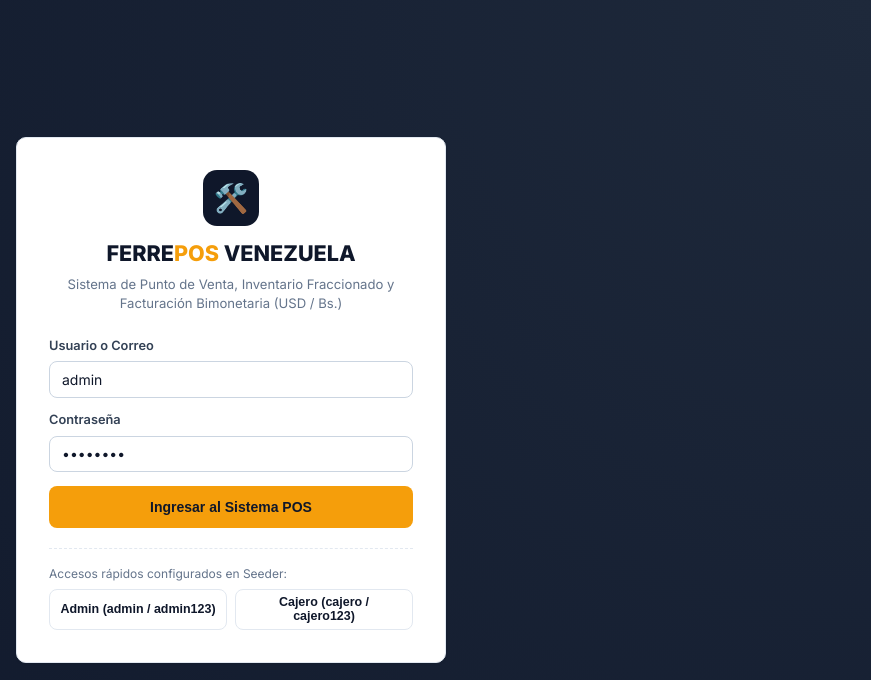
Test case: LoginView Component › los botones de demo rellenan automáticamente las credenciales
Clic en Cajero
Click the button "Cajero (cajero / cajero123)" at (324, 609), box 235,589 -> 413,630
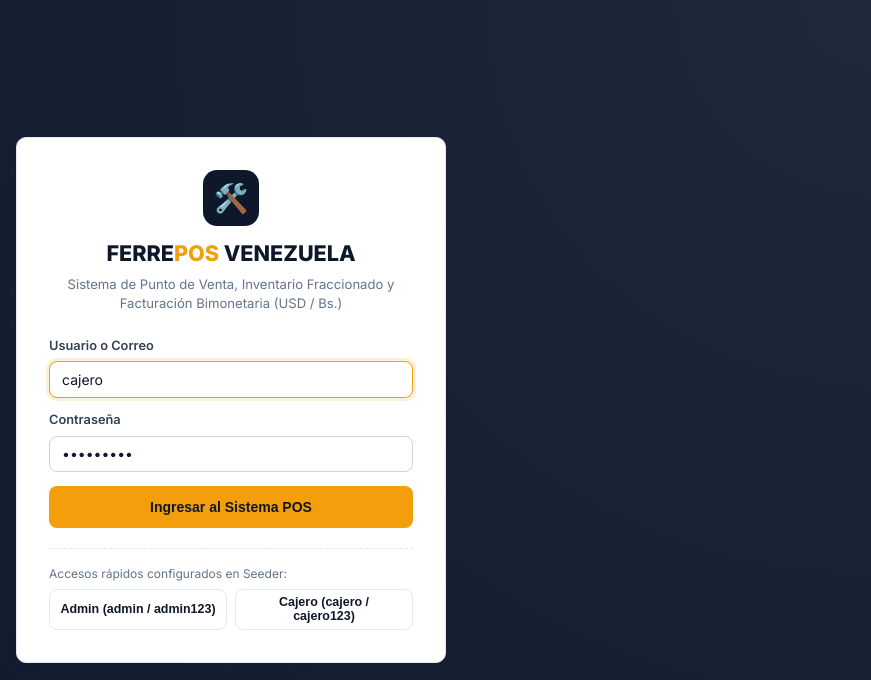
Check: the password field holds "cajero123", box 49,436 -> 413,472
Check: the field holds "cajero", box 49,361 -> 413,398
